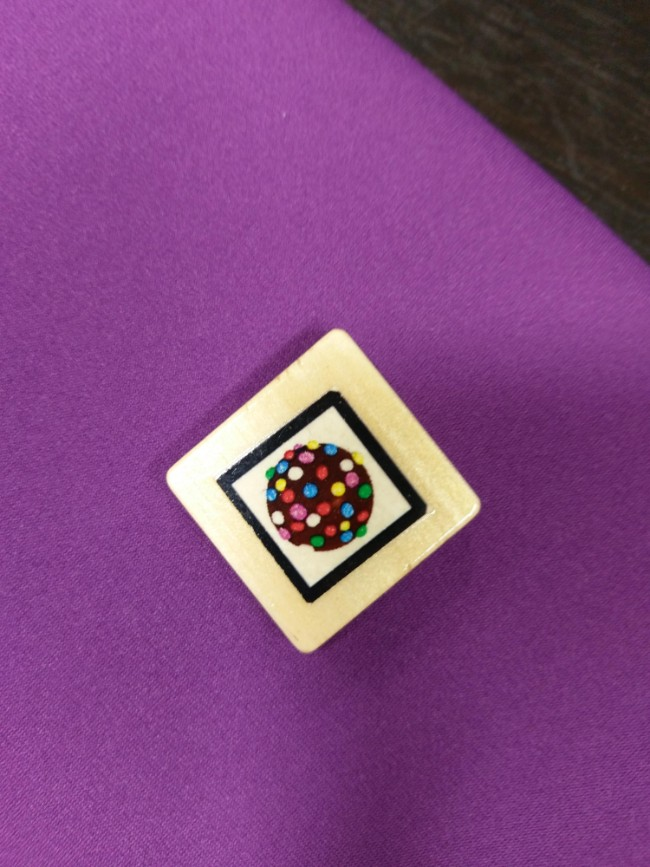cookie: (228, 401, 414, 589)
